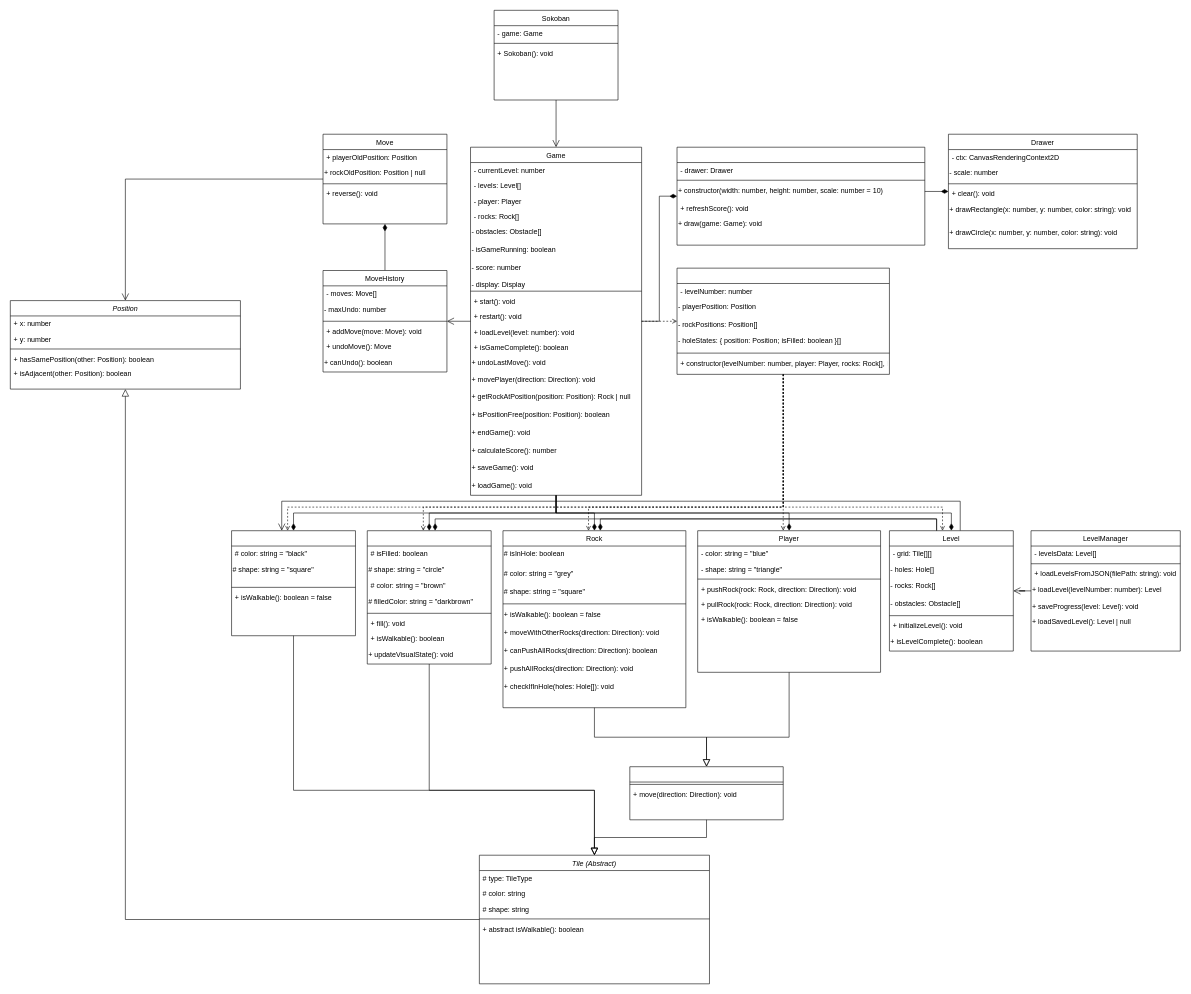
Image size: 1191x994. Some labels were removed from this diagram. The shapes that lost their labels are listed below. From the top down, each one's box as (x1, y1, x2, y2) in pixels, then its label:
(676, 147, 925, 245): Display
(676, 268, 889, 374): GameState
(231, 530, 355, 636): Obstacle
(367, 530, 491, 664): Hole
(629, 766, 783, 820): MovableTile (Abstract)
